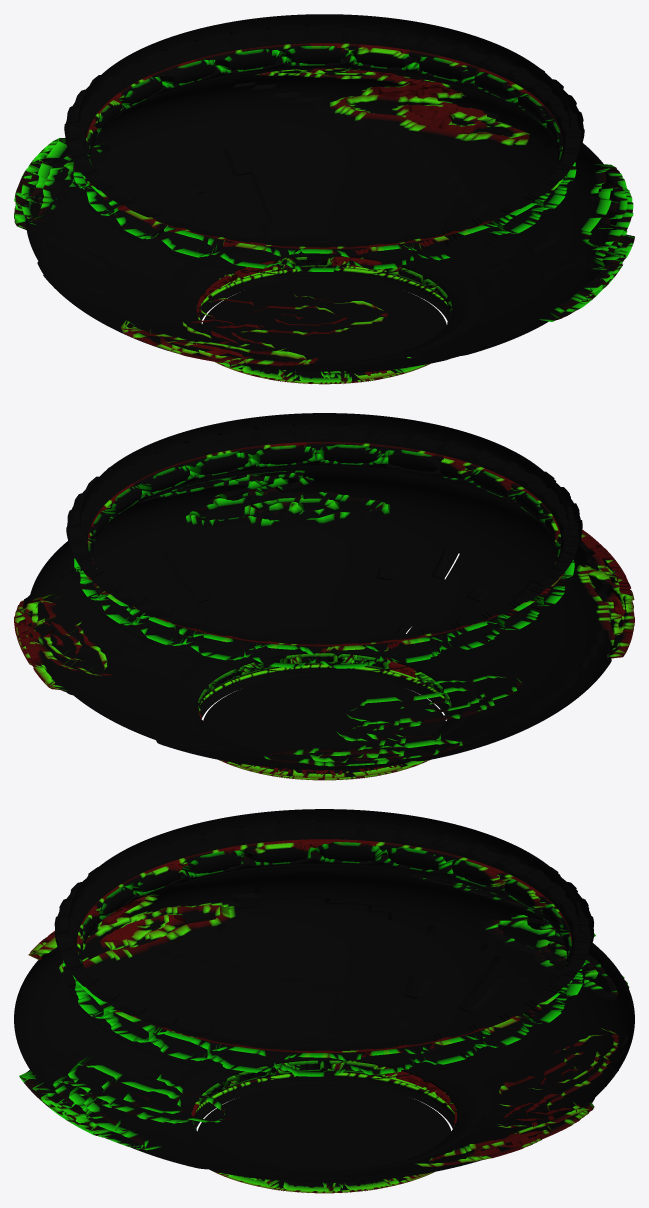
File: gui_lite_vc.glb
The picture shows the model from 3 angles, top to bottom: view 1: azimuth 30°, elevation 25°; view 2: azimuth 150°, elevation 25°; view 3: azimuth 270°, elevation 25°; orthographic projection. The views are drawn at different scales.
Visible parts, largest first — view 1: geometry_0; view 2: geometry_0; view 3: geometry_0.
Boxes of the visible parts, bbox=[...] form: geometry_0: bbox=[14, 14, 634, 384]; geometry_0: bbox=[14, 413, 634, 780]; geometry_0: bbox=[14, 809, 634, 1193].
Bounding box in the file's own units: 1.58 × 0.62 × 1.57.
